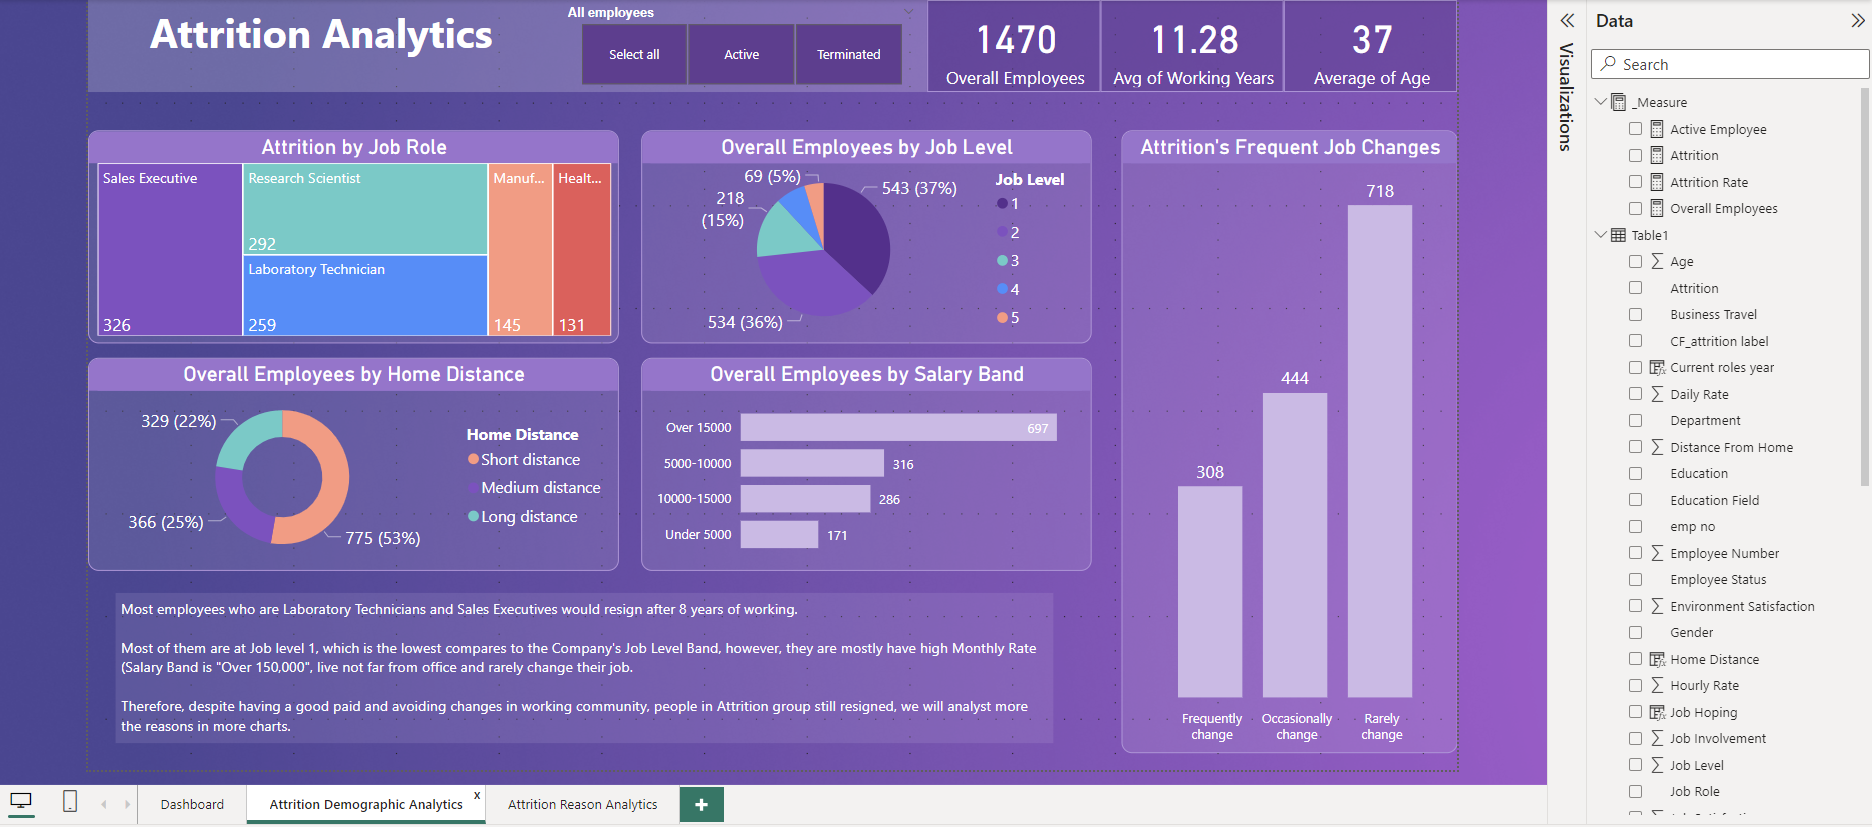

Layout of this report page (visuals, bound fields, positions):
{"tool":"powerbi","page":{"name":"Attrition Demographic Analytics","canvas":[1280,720],"ordinal":1},"visuals":[{"type":"textbox","box":[0,0,435.7,86.2],"z":0},{"type":"card","fields":{"Values":["_Measure.Overall Employees"]},"box":[784.5,0,162.1,85.7],"z":1000},{"type":"pieChart","fields":{"Category":["Table1.Job Level"],"Y":["_Measure.Overall Employees"]},"box":[516.9,121.8,420.9,199.4],"z":3000},{"type":"clusteredBarChart","fields":{"Category":["Table1.Salary Band"],"Y":["_Measure.Overall Employees"]},"box":[516.9,334.8,420.9,199.4],"z":5000},{"type":"treemap","title":"Attrition by Job Role","fields":{"Group":["Table1.Job Role"],"Values":["_Measure.Overall Employees"]},"box":[0,121.8,496,199.4],"z":6000},{"type":"card","fields":{"Values":["Avg(Table1.Total Working Years)"]},"box":[946.6,0,171.4,85.7],"z":8000},{"type":"card","fields":{"Values":["Avg(Table1.Age)"]},"box":[1117.5,0,162.5,86.2],"z":9000},{"type":"textbox","box":[25.8,560,912,144],"z":12003},{"type":"donutChart","fields":{"Category":["Table1.Home Distance"],"Y":["_Measure.Overall Employees"]},"box":[0,334.8,496,199.4],"z":12007},{"type":"clusteredColumnChart","title":"Attrition''s Frequent Job Changes","fields":{"Category":["Table1.Job Hoping"],"Y":["_Measure.Overall Employees"]},"box":[966.2,121.8,313.8,582.2],"z":12009},{"type":"slicer","fields":{"Values":["Table1.Employee Status"]},"box":[435.6,0,348.9,85.7],"z":12010}]}

Visuals, with their boxes on the page's 1280x720 design canvas (x1, y1, x2, y2). These are canvas units, not pixel positions in the 1872x827 screenshot, which may show the page scaled, cropped or inside an application window:
textbox: 0:0:436:86
card - _Measure.Overall Employees: 784:0:947:86
pieChart - Table1.Job Level x _Measure.Overall Employees: 517:122:938:321
clusteredBarChart - Table1.Salary Band x _Measure.Overall Employees: 517:335:938:534
"Attrition by Job Role" treemap: 0:122:496:321
card - Avg(Table1.Total Working Years): 947:0:1118:86
card - Avg(Table1.Age): 1118:0:1280:86
textbox: 26:560:938:704
donutChart - Table1.Home Distance x _Measure.Overall Employees: 0:335:496:534
"Attrition''s Frequent Job Changes" clusteredColumnChart: 966:122:1280:704
slicer - Table1.Employee Status: 436:0:784:86
